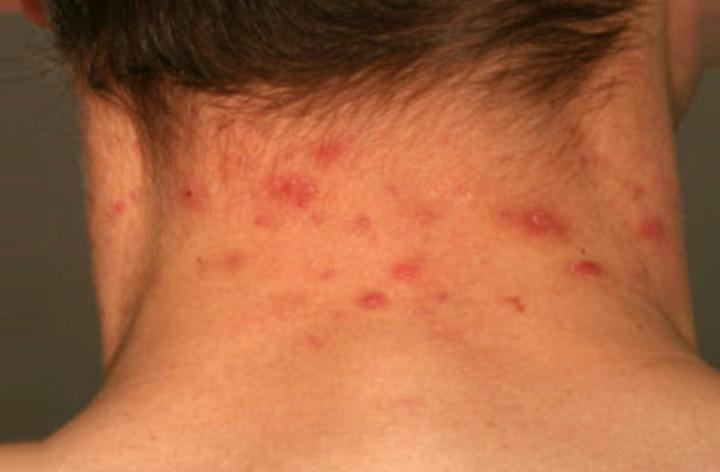Folliculitis: (234, 131, 624, 345)
